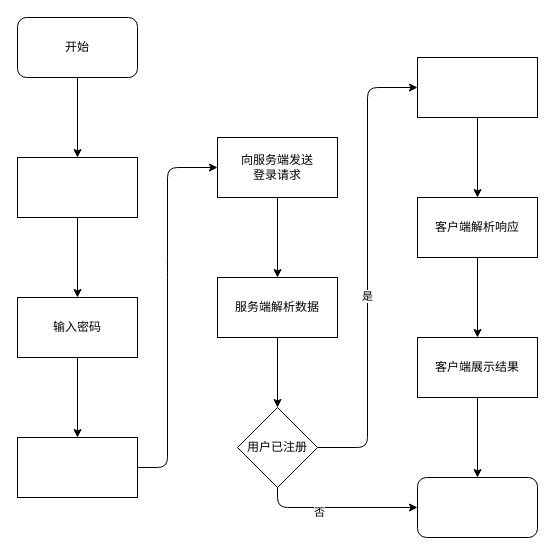
This 555x555 diagram has some shape labels left out. Here are the shapes that lost their labels. From the top down, the centre of each, then its label:
(477,87): 服务端处理 并返回响应
(77,187): 输入ID
(77,467): 客户端检查信息格式
(477,507): 结束
